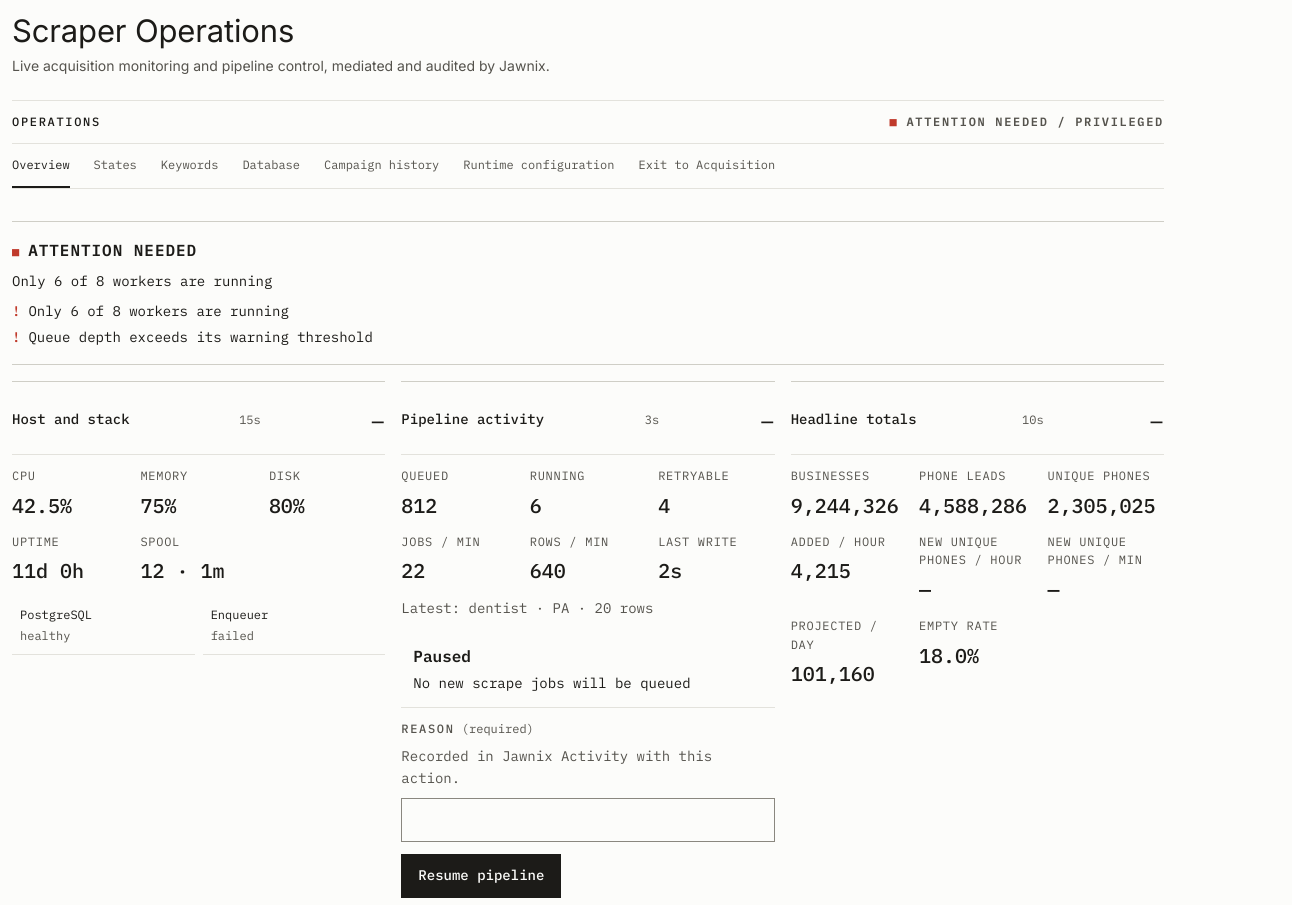
pipeline controls › offers resume instead of pause once the pipeline is paused
The width and height of the screenshot is (1292, 905).
Type "Inventory recovered" into the field labelled "Reason (required)" at (588, 820), box [401,798,775,842]
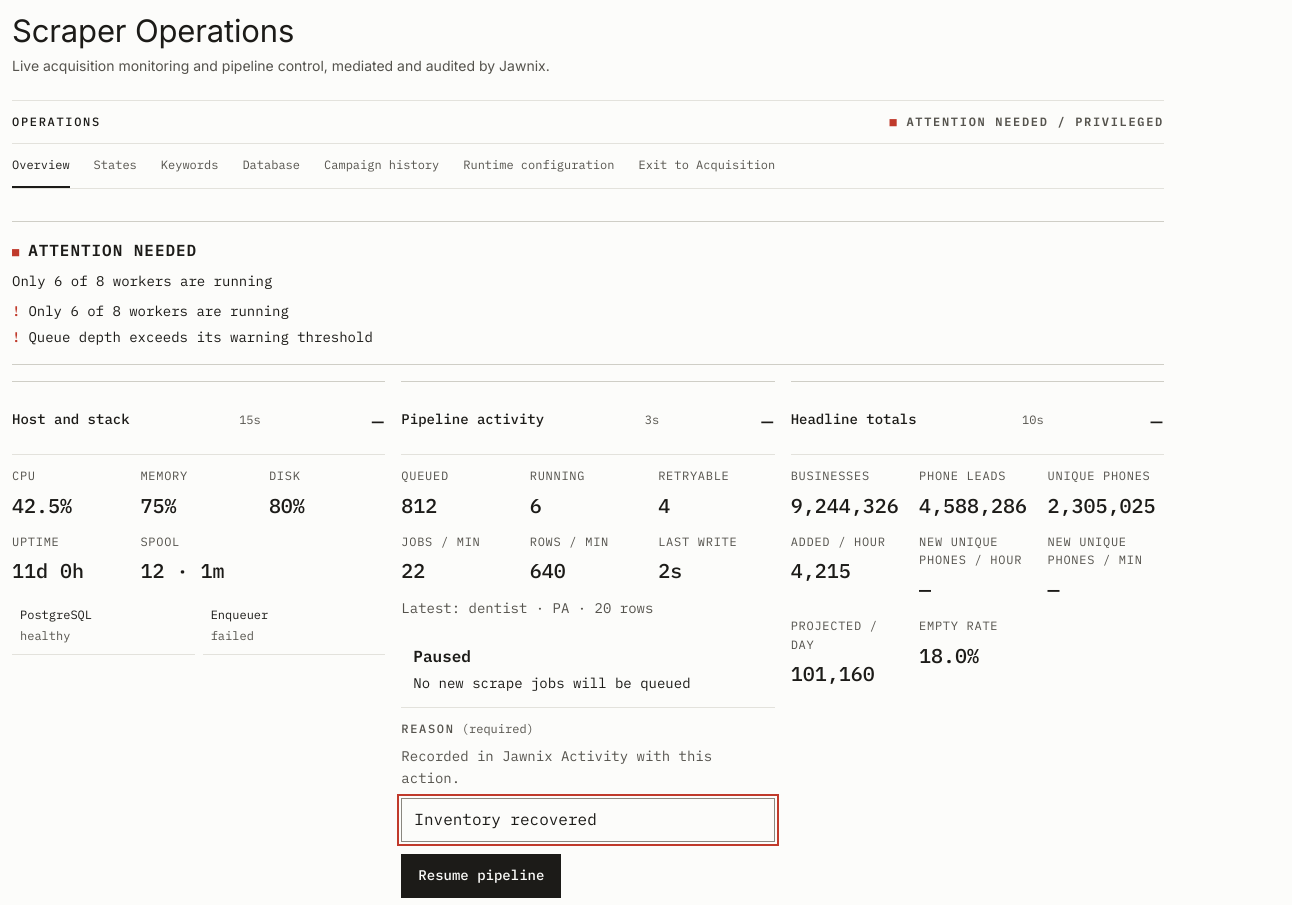
Click the button "Resume pipeline" at (481, 876), box [401,854,561,898]
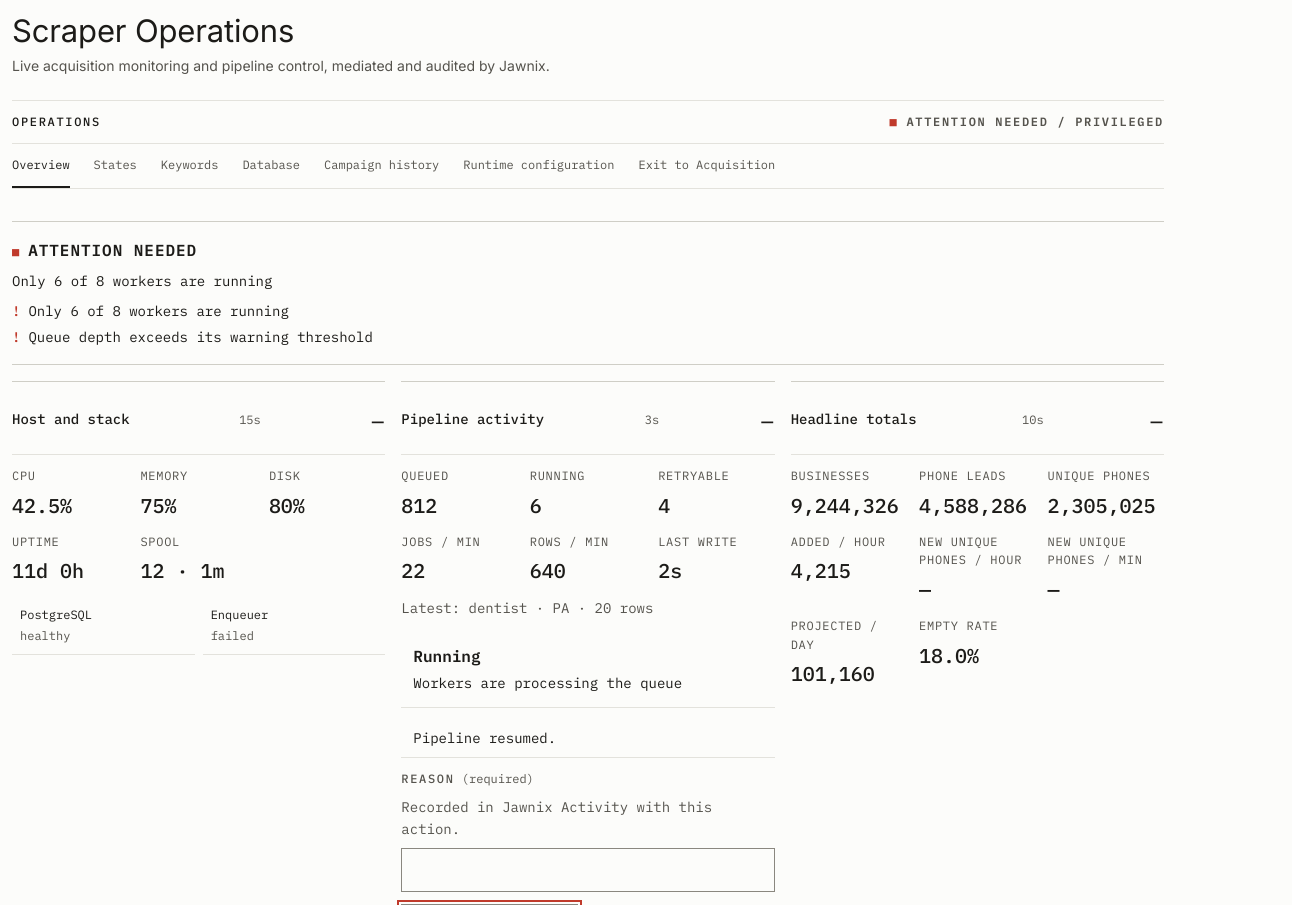
Result: the text "Pipeline resumed." is shown at [401,720,775,758]
